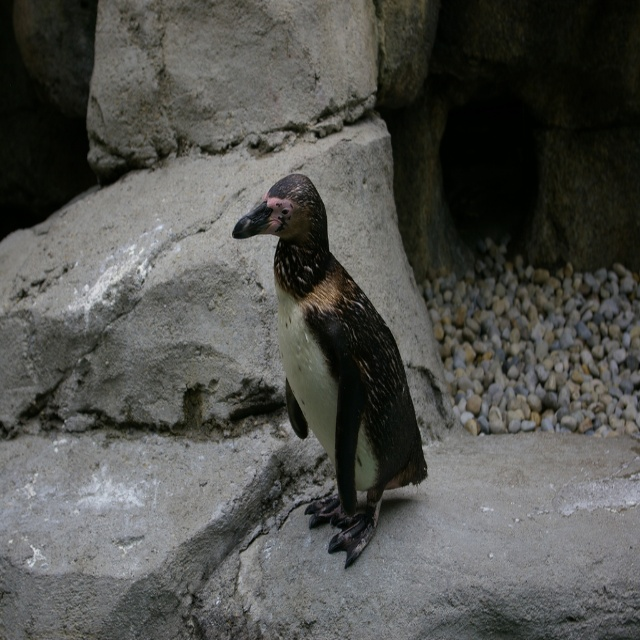Penguin: (234, 163, 440, 558)
